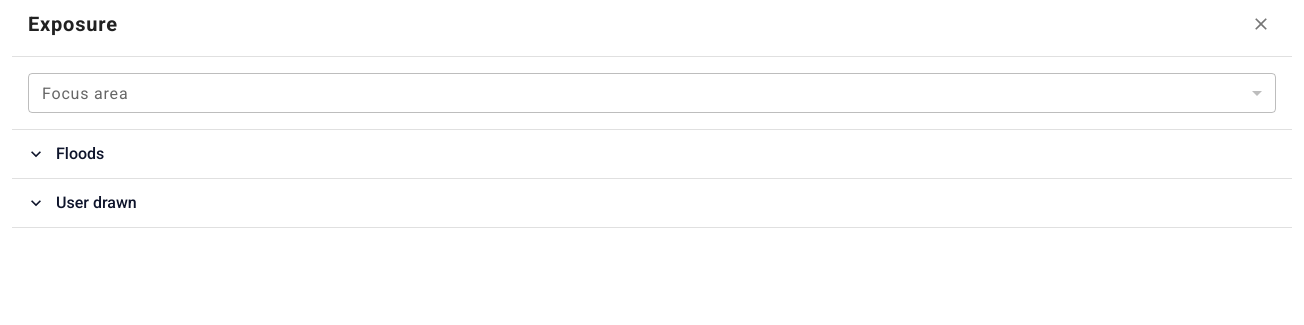
Test: ExposureView › Spatial Relation Badges › displays correct badges for multiple layers with different relations
Expected: the text "Floods" is shown, [56,144,104,163]
Click the button "Floods" at (80, 154), box [12,130,1292,178]
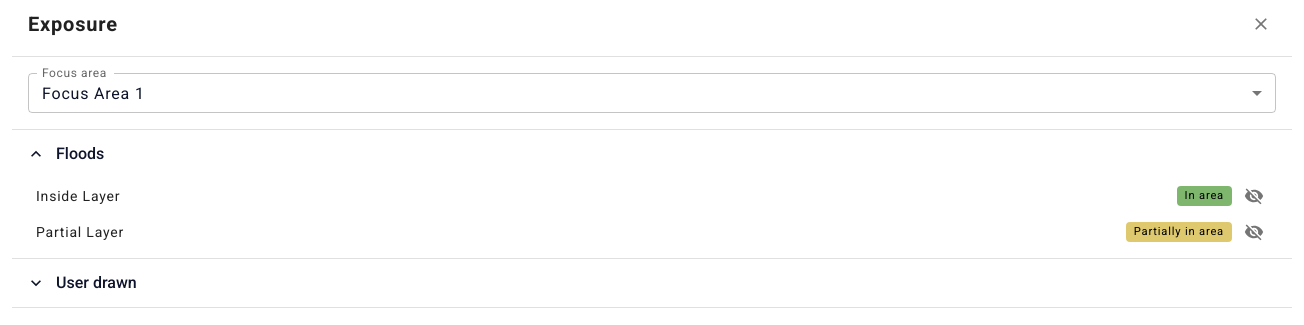
Expected: the text "Inside Layer" is shown, [36,188,120,204]
Expected: the text "Partial Layer" is shown, [36,224,124,240]
Expected: the text "In area" is shown, [1177,186,1232,206]
